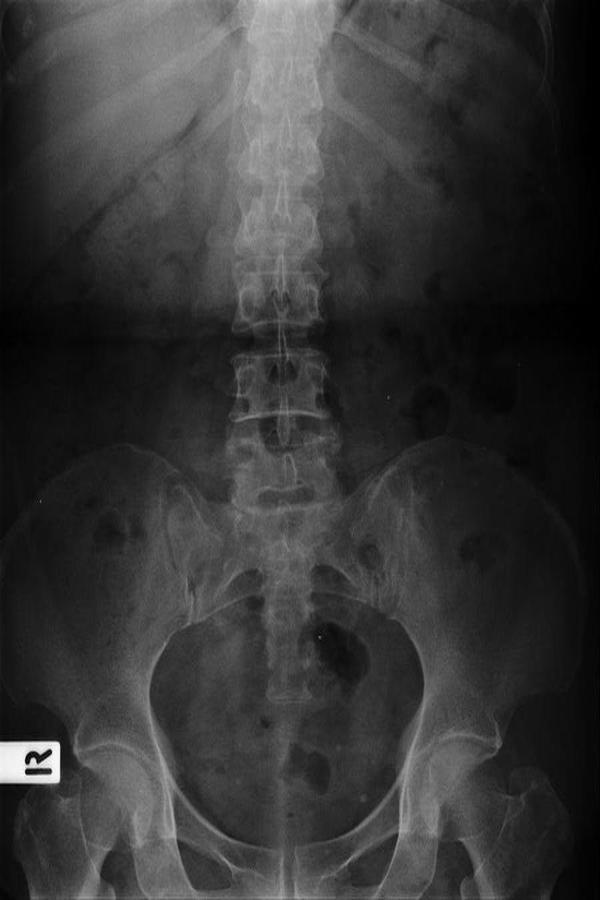lumbar scoliosis: (218, 6, 340, 538)
